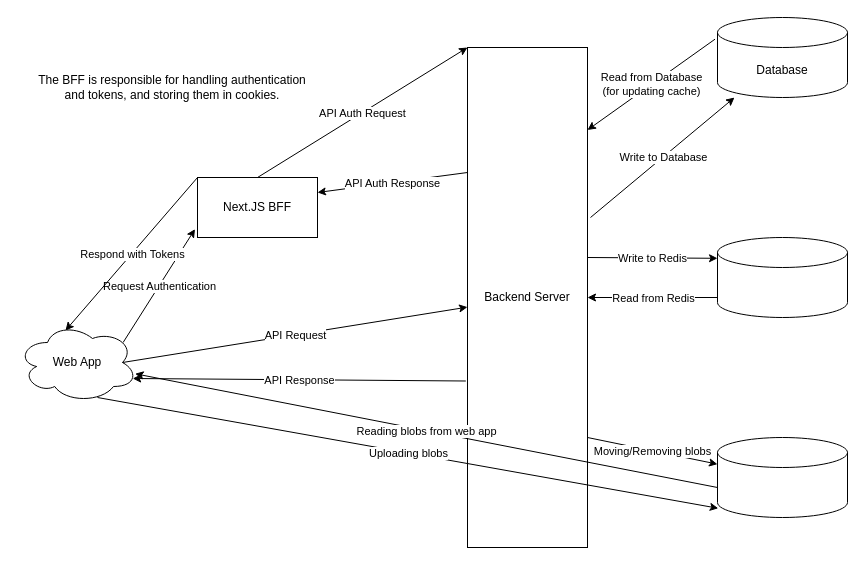
Image size: 865x565. Some labels were removed from this diagram. The shapes that lost their labels are listed below. From the top down, each one's box as (x1, y1, x2, y2) in pixels, then its label:
(716, 236, 848, 318): Redis
(716, 436, 848, 518): S3
